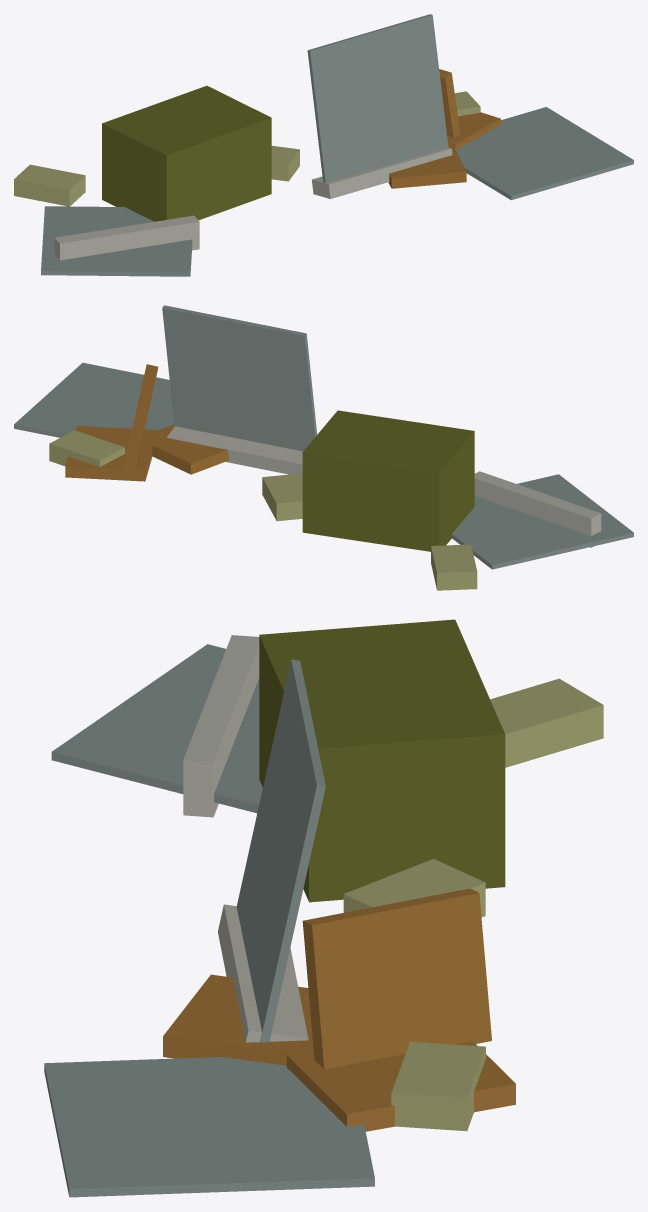
The model's file is SM_BarricadaCivil_v2_Vallas_e2_MuyDanado_LOD0.fbx.
3 renders of one model, top to bottom at view 1: azimuth 30°, elevation 25°; view 2: azimuth 150°, elevation 25°; view 3: azimuth 270°, elevation 25°, orthographic. The views are drawn at different scales.
Visible parts, largest first — view 1: SM_barricada_civil_v10_LOD0; view 2: SM_barricada_civil_v10_LOD0; view 3: SM_barricada_civil_v10_LOD0.
Boxes of the visible parts, x1=… form: SM_barricada_civil_v10_LOD0: x1=14, y1=14, x2=633, y2=276; SM_barricada_civil_v10_LOD0: x1=14, y1=305, x2=633, y2=590; SM_barricada_civil_v10_LOD0: x1=44, y1=619, x2=603, y2=1197.
Size of the model in its own units: 8.41 by 2.09 by 3.65.
